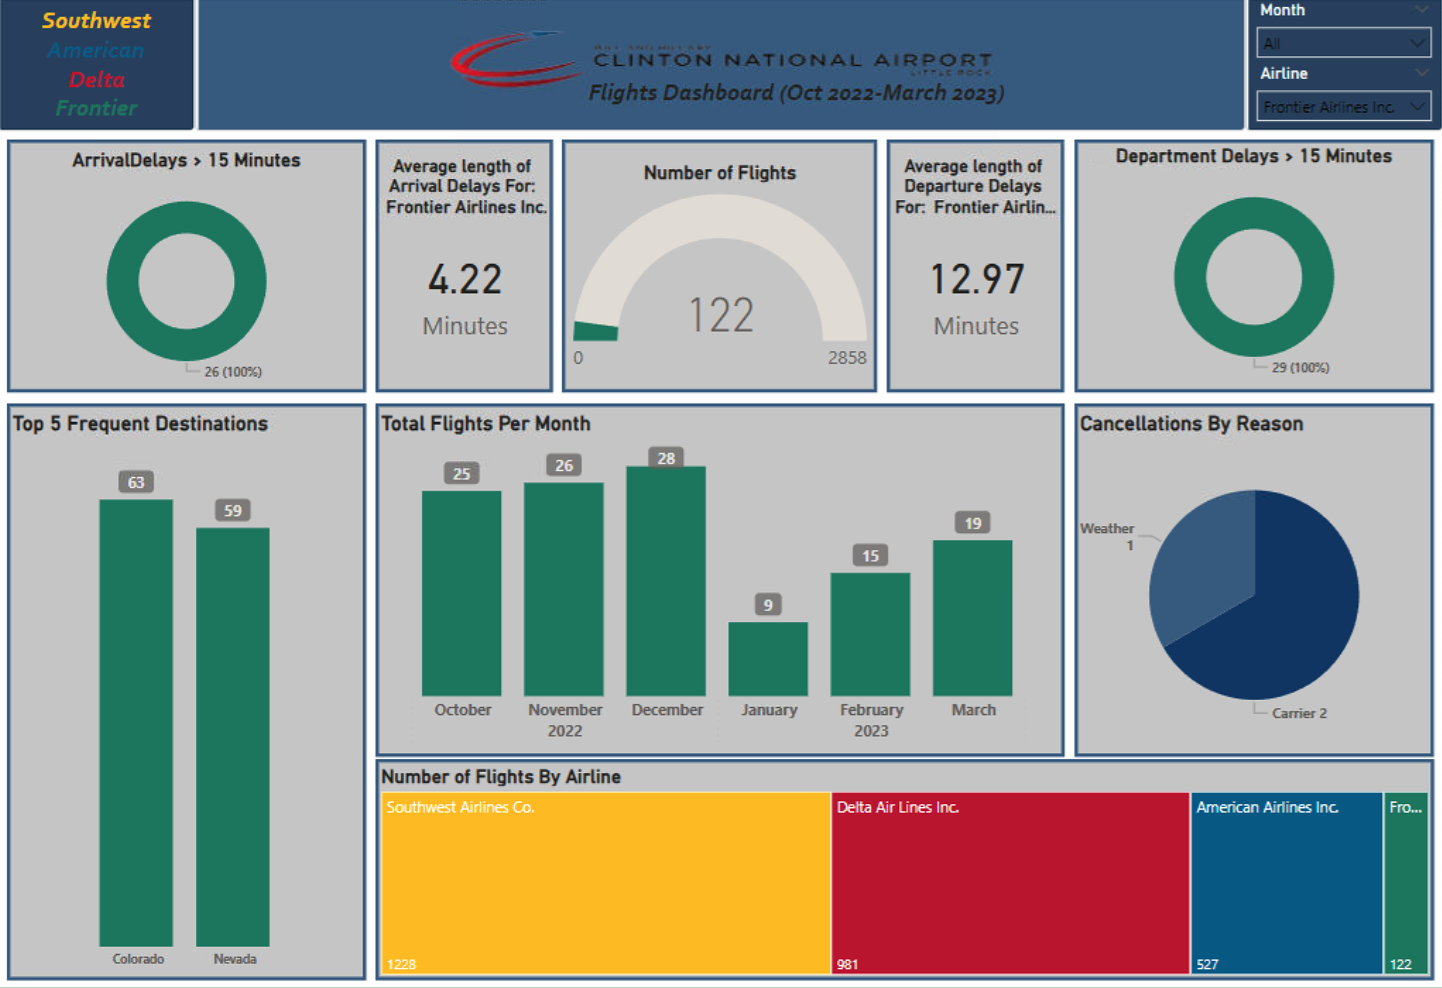

What the dashboard file says about the page in this screenshot:
{"tool":"powerbi","page":{"name":"Page 1","canvas":[1280,900],"ordinal":0},"visuals":[{"type":"shape","box":[1105,0,175,120],"z":0},{"type":"shape","box":[335,676,937,196],"z":1000},{"type":"shape","box":[954,361,318,313],"z":2000},{"type":"shape","box":[335,361,610,313],"z":3000},{"type":"shape","box":[9,361,318,511],"z":4000},{"type":"shape","box":[954,128,318,224],"z":5000},{"type":"shape","box":[788,128,157,224],"z":6000},{"type":"shape","box":[335,128,157,224],"z":7000},{"type":"shape","box":[500,128,279,224],"z":8000},{"type":"shape","box":[175,0,930,120],"z":9000},{"type":"slicer","fields":{"Values":["lr_airport_data.AIRLINE_NAME"]},"box":[1105,56,175,64],"z":10000},{"type":"textbox","title":"Source: Bureau Transportation Statistics ","box":[0,879,1280,21],"z":11000},{"type":"treemap","title":"Number of Flights By Airline","fields":{"Group":["lr_airport_data.AIRLINE_NAME"],"Values":["#Measures.NumofFlights"]},"box":[335,681,937,191],"z":12000},{"type":"gauge","title":"Number of Flights","fields":{"Y":["#Measures.NumofFlights"]},"box":[505,146,270,206],"z":13000},{"type":"donutChart","title":"Department Delays > 15 Minutes","fields":{"Category":["lr_airport_data.AIRLINE_NAME"],"Y":["Sum(lr_airport_data.DEP_DEL15)"]},"box":[954,131,318,217],"z":14000},{"type":"pieChart","title":"Cancellations By Reason","fields":{"Y":["CountNonNull(lr_airport_data.CANCELLED)"],"Category":["lr_airport_data.CANCELLATION_DESCRIPTION"]},"box":[954,368,318,306],"z":15000},{"type":"columnChart","title":"Top 5 Frequent Destinations","fields":{"Category":["lr_airport_data.DEST_STATE_NM"],"Y":["#Measures.NumofFlights"],"Series":["lr_airport_data.AIRLINE_NAME"]},"box":[9,368,318,504],"z":16000},{"type":"lineStackedColumnComboChart","title":"Total Flights Per Month","fields":{"Y":["#Measures.NumofFlights"],"Category":["lr_airport_data.FL_DATE.Variation.Date Hierarchy.Year","lr_airport_data.FL_DATE.Variation.Date Hierarchy.Month"],"Series":["lr_airport_data.AIRLINE_NAME"]},"box":[335,368,607,306],"z":17000},{"type":"image","box":[386,0,507,120],"z":18000},{"type":"card","title":"Minutes","fields":{"Values":["Avg(lr_airport_data.DEP_DELAY_NEW)"]},"box":[806,200,121,122],"z":19000},{"type":"card","fields":{"Values":["#Measures.TitleBar"]},"box":[788,128,157,83],"z":20000},{"type":"card","title":"Minutes","fields":{"Values":["Avg(lr_airport_data.ARR_DELAY)"]},"box":[356,200,116,122],"z":21000},{"type":"card","fields":{"Values":["#Measures.ArrDelayTitleBar"]},"box":[335,128,157,83],"z":22000},{"type":"slicer","fields":{"Values":["lr_airport_data.MonthYear"]},"box":[1105,0,175,56],"z":23000},{"type":"textbox","box":[481,67,453,42],"z":24000},{"type":"shape","box":[9,128,318,224],"z":25000},{"type":"donutChart","title":"ArrivalDelays > 15 Minutes","fields":{"Category":["lr_airport_data.AIRLINE_NAME"],"Y":["Sum(lr_airport_data.ARR_DEL15)"]},"box":[9,135,318,217],"z":26000},{"type":"shape","box":[0,0,175,120],"z":27000},{"type":"textbox","box":[20,4,135,120],"z":28000}]}

Visuals, with their boxes in screenshot pixels (x1, y1, x2, y2), scaled from the page's 1280x900 canvas onto the 1442x988 screenshot:
shape: (x1=1245, y1=0, x2=1441, y2=132)
shape: (x1=377, y1=742, x2=1433, y2=957)
shape: (x1=1075, y1=396, x2=1433, y2=740)
shape: (x1=377, y1=396, x2=1065, y2=740)
shape: (x1=10, y1=396, x2=368, y2=957)
shape: (x1=1075, y1=141, x2=1433, y2=386)
shape: (x1=888, y1=141, x2=1065, y2=386)
shape: (x1=377, y1=141, x2=554, y2=386)
shape: (x1=563, y1=141, x2=878, y2=386)
shape: (x1=197, y1=0, x2=1245, y2=132)
slicer - lr_airport_data.AIRLINE_NAME: (x1=1245, y1=61, x2=1441, y2=132)
"Source: Bureau Transportation Statistics " textbox: (x1=0, y1=965, x2=1441, y2=987)
"Number of Flights By Airline" treemap: (x1=377, y1=748, x2=1433, y2=957)
"Number of Flights" gauge: (x1=569, y1=160, x2=873, y2=386)
"Department Delays > 15 Minutes" donutChart: (x1=1075, y1=144, x2=1433, y2=382)
"Cancellations By Reason" pieChart: (x1=1075, y1=404, x2=1433, y2=740)
"Top 5 Frequent Destinations" columnChart: (x1=10, y1=404, x2=368, y2=957)
"Total Flights Per Month" lineStackedColumnComboChart: (x1=377, y1=404, x2=1061, y2=740)
image: (x1=435, y1=0, x2=1006, y2=132)
"Minutes" card: (x1=908, y1=220, x2=1044, y2=353)
card - #Measures.TitleBar: (x1=888, y1=141, x2=1065, y2=232)
"Minutes" card: (x1=401, y1=220, x2=532, y2=353)
card - #Measures.ArrDelayTitleBar: (x1=377, y1=141, x2=554, y2=232)
slicer - lr_airport_data.MonthYear: (x1=1245, y1=0, x2=1441, y2=61)
textbox: (x1=542, y1=74, x2=1052, y2=120)
shape: (x1=10, y1=141, x2=368, y2=386)
"ArrivalDelays > 15 Minutes" donutChart: (x1=10, y1=148, x2=368, y2=386)
shape: (x1=0, y1=0, x2=197, y2=132)
textbox: (x1=23, y1=4, x2=175, y2=136)
